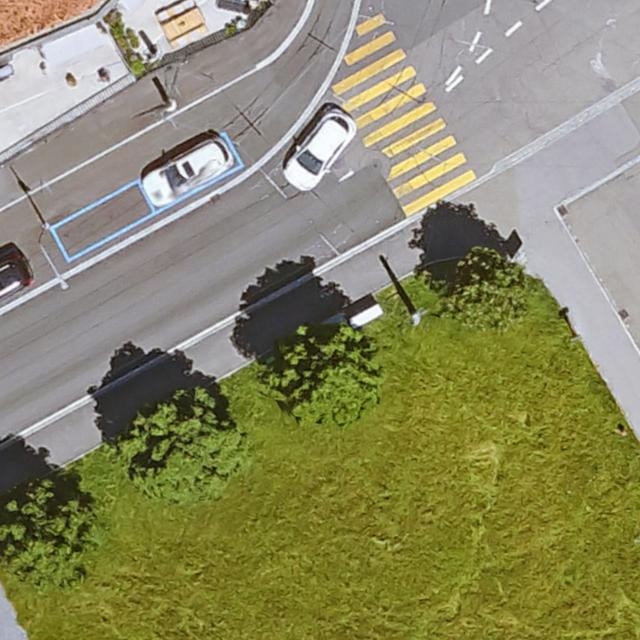tree: (126, 389, 248, 503), (269, 325, 384, 427), (1, 481, 97, 590), (450, 246, 528, 331)
